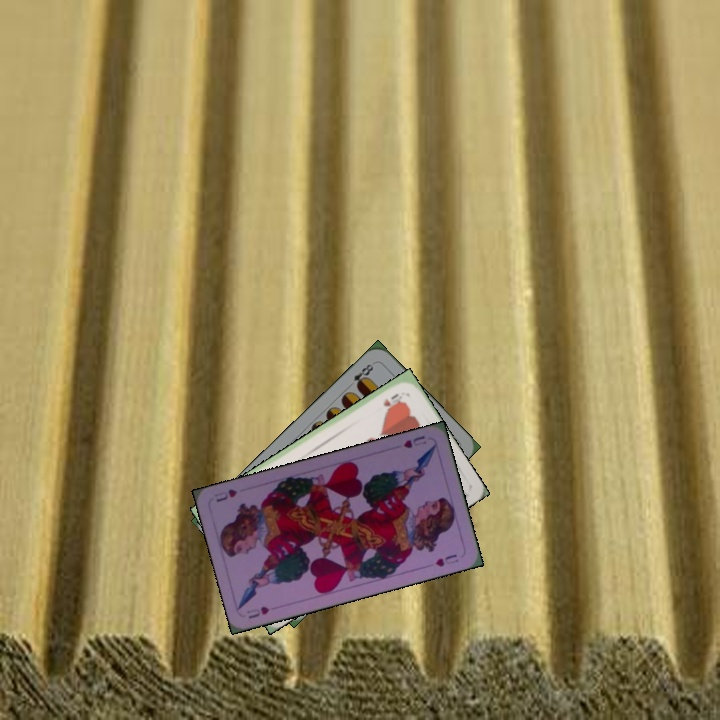E8: (344, 358, 377, 391)
HO: (379, 389, 405, 409)
HU: (399, 432, 429, 451), (243, 602, 272, 621)
